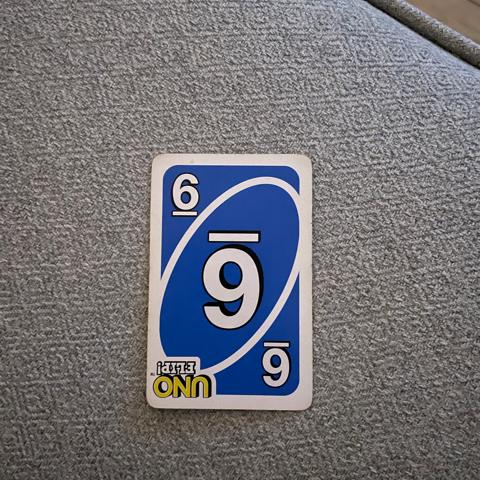lblue-6: (160, 162, 215, 224)
